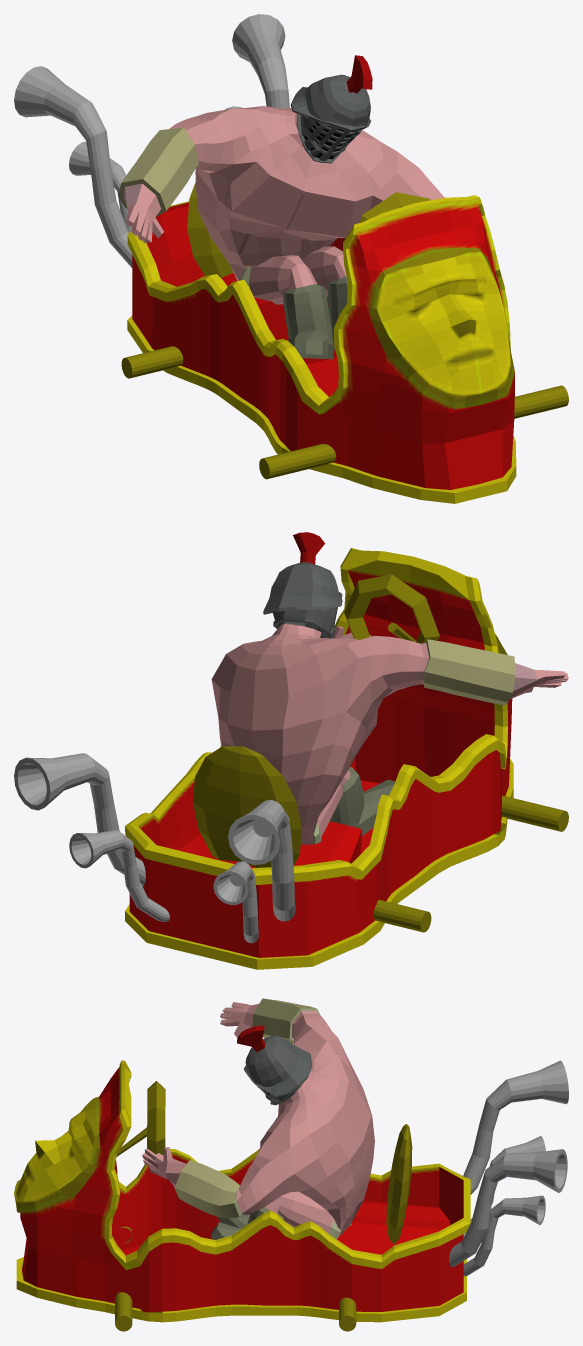
Rendered from gladiVacile_000572.obj.
3 renders of one model, top to bottom at view 1: azimuth 30°, elevation 25°; view 2: azimuth 150°, elevation 25°; view 3: azimuth 270°, elevation 25°, orthographic. The views are drawn at different scales.
Parts seen in each view (by area): view 1: GladiChasis_GladiChasisH, Gadiador_Gladiador_H.001, GladiTubos_GladiTubosH, GladiVolante_GladiVolanteH; view 2: GladiChasis_GladiChasisH, Gadiador_Gladiador_H.001, GladiTubos_GladiTubosH, GladiVolante_GladiVolanteH; view 3: GladiChasis_GladiChasisH, Gadiador_Gladiador_H.001, GladiTubos_GladiTubosH, GladiVolante_GladiVolanteH.
Boxes of the visible parts, box(x1,y1,x2,y2) form: GladiChasis_GladiChasisH: box(127, 195, 516, 503); Gadiador_Gladiador_H.001: box(118, 55, 444, 359); GladiTubos_GladiTubosH: box(14, 14, 289, 267); GladiVolante_GladiVolanteH: box(121, 182, 568, 479); GladiChasis_GladiChasisH: box(125, 548, 513, 969); Gadiador_Gladiador_H.001: box(211, 532, 568, 844); GladiTubos_GladiTubosH: box(14, 753, 295, 943); GladiVolante_GladiVolanteH: box(192, 574, 568, 932); GladiChasis_GladiChasisH: box(14, 1060, 470, 1322); Gadiador_Gladiador_H.001: box(142, 998, 374, 1239); GladiTubos_GladiTubosH: box(449, 1060, 568, 1276); GladiVolante_GladiVolanteH: box(115, 1081, 412, 1331).
Size of the model in its own units: 6.74 by 5.66 by 10.78.
